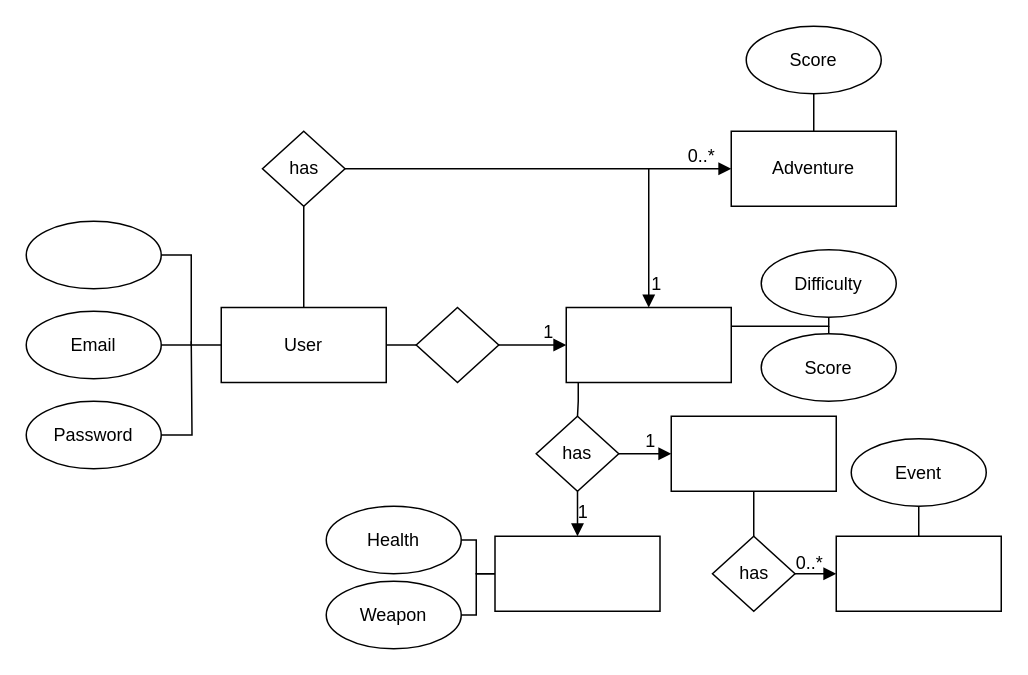
Some shapes in this 1028 by 675 pixel diagram are drawn without their labels. Here are the shapes that lost their labels. From the top down, the box of each, then its label:
(25, 220, 161, 289): Username
(415, 306, 499, 382): creates
(565, 306, 731, 382): Game
(670, 415, 836, 491): Dungeon
(494, 535, 660, 611): Player
(835, 535, 1001, 611): Room
